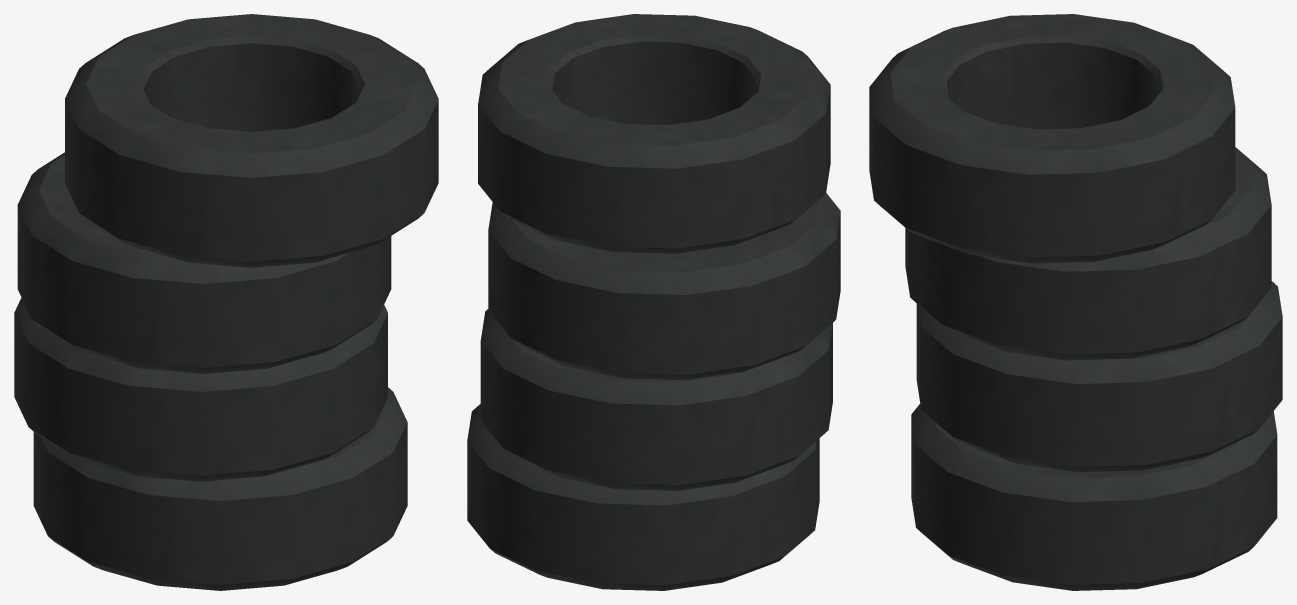
File: sm_wheel_001.fbx
The picture shows the model from 3 angles, left to right: view 1: azimuth 30°, elevation 25°; view 2: azimuth 150°, elevation 25°; view 3: azimuth 270°, elevation 25°; orthographic projection. The views are drawn at different scales.
Visible parts, largest first — view 1: sm_wheel_001; view 2: sm_wheel_001; view 3: sm_wheel_001.
Boxes of the visible parts, x1,y1,x2,y2 form: sm_wheel_001: (14,14,438,590); sm_wheel_001: (467,14,840,590); sm_wheel_001: (869,14,1282,590).
Size of the model in its own units: 1 by 1.24 by 1.04.
1 material, 1 textured.
